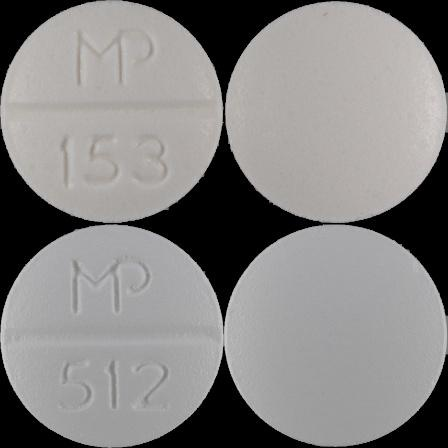53489-531: (0, 0, 224, 224)
